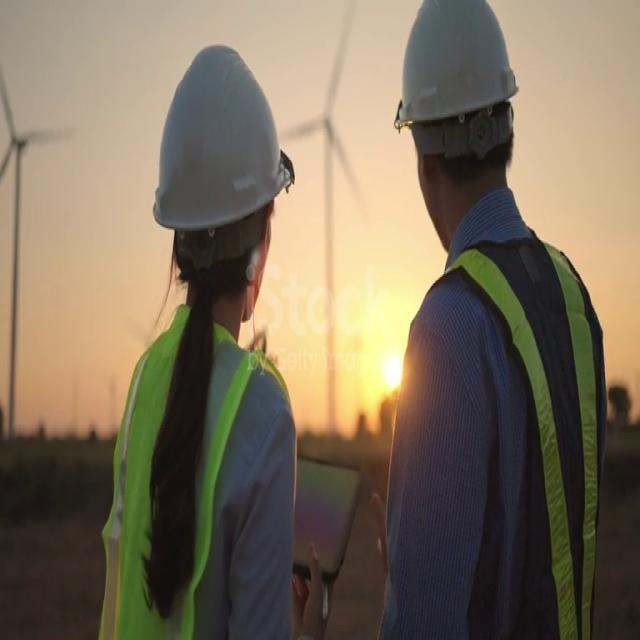capacete: (137, 41, 306, 242), (381, 0, 535, 219)
